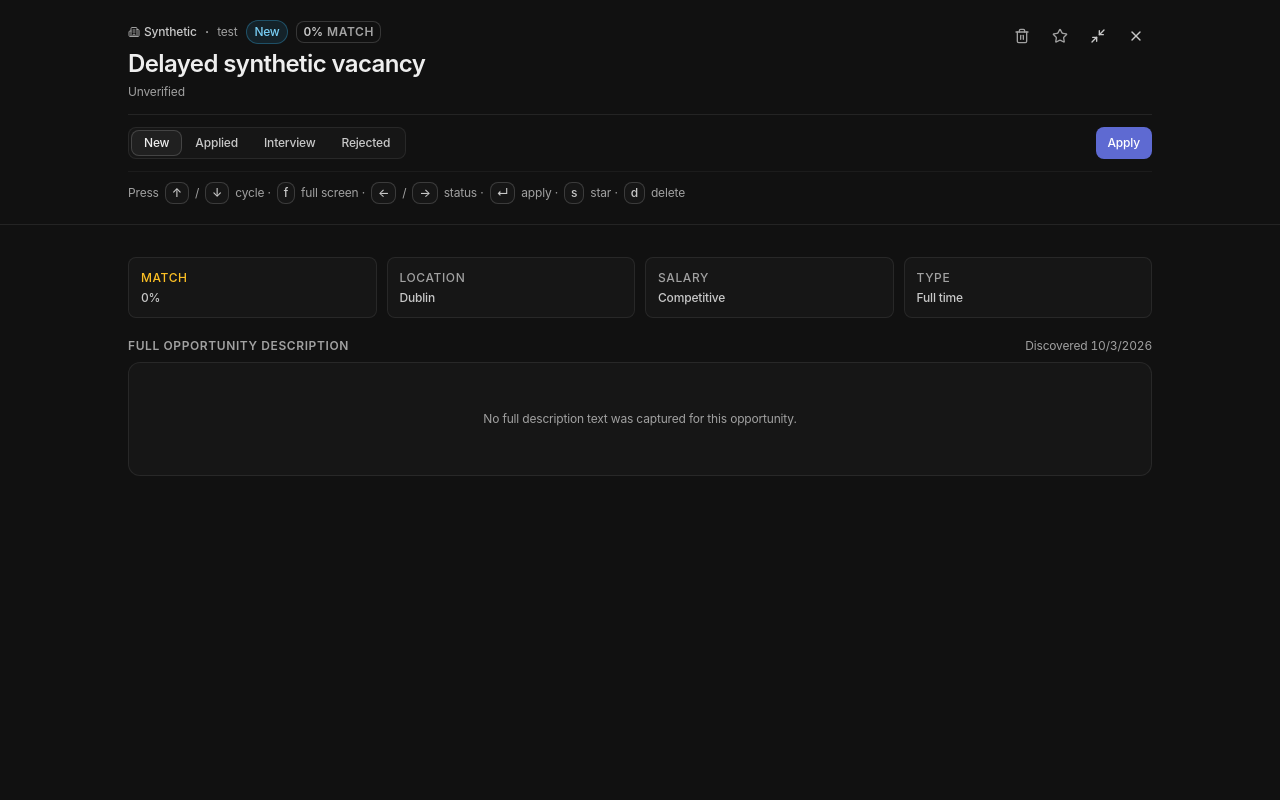
Test case: JobsView Search Input › opens a compact cold deep link after its job arrives outside the first page
Check: the dialog shows "Delayed synthetic vacancy", box x1=128 y1=49 x2=425 y2=78
Click the button named "Close inspector": (1136, 36) x1=1120 y1=20 x2=1152 y2=52
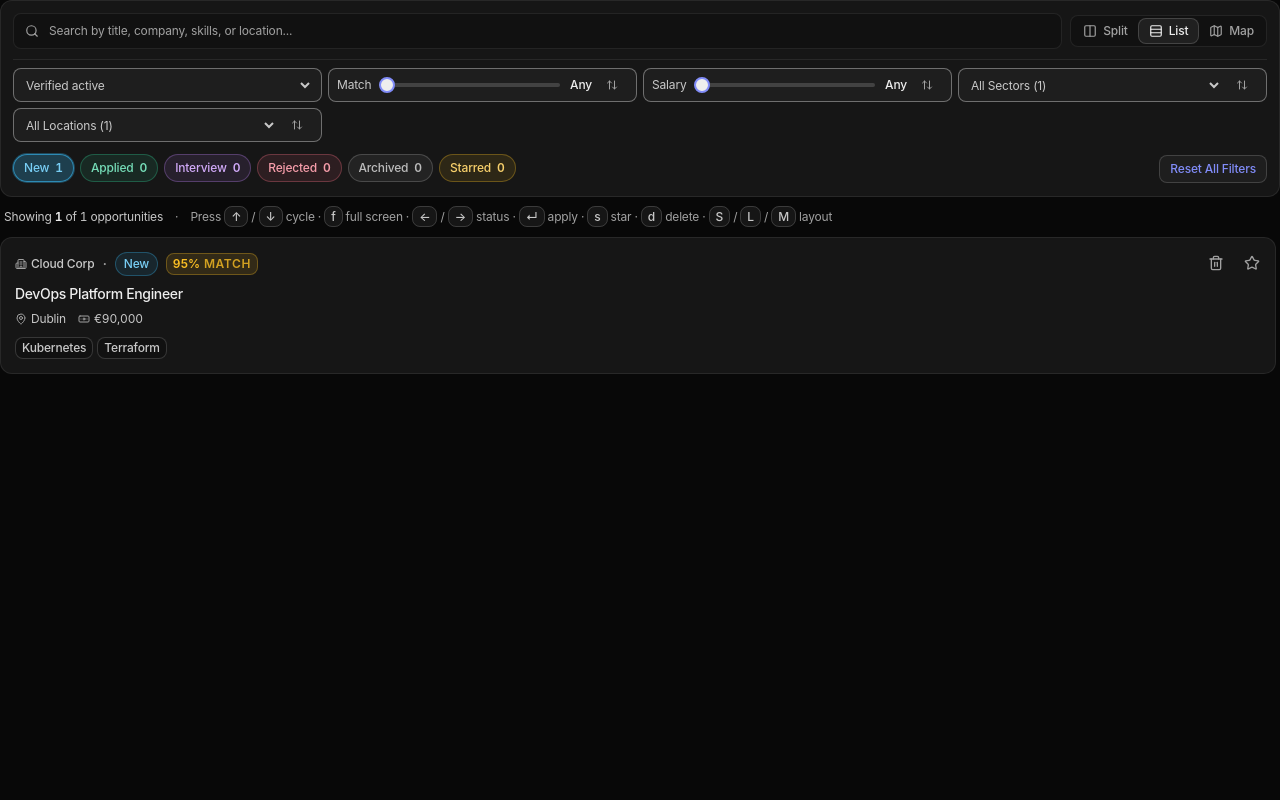
Check: the dialog is gone
